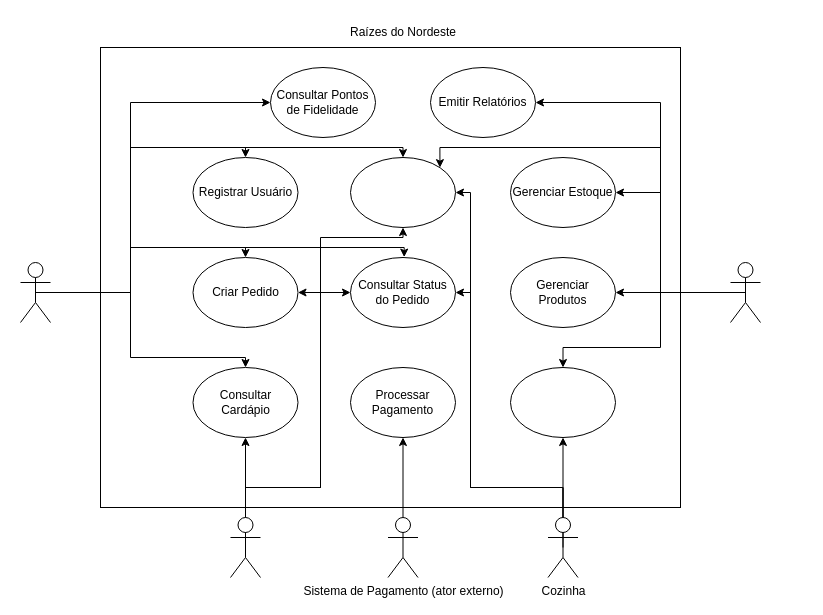
This 823x615 diagram has some shape labels left out. Here are the shapes that lost their labels. From the top down, the centre of each, then its label:
At [403,192]: "Realizar Login".
At [35,292]: "Cliente".
At [745,292]: "Gerente/Administrador".
At [563,402]: "Atualizar Status do Pedido".
At [245,547]: "Atendente".
